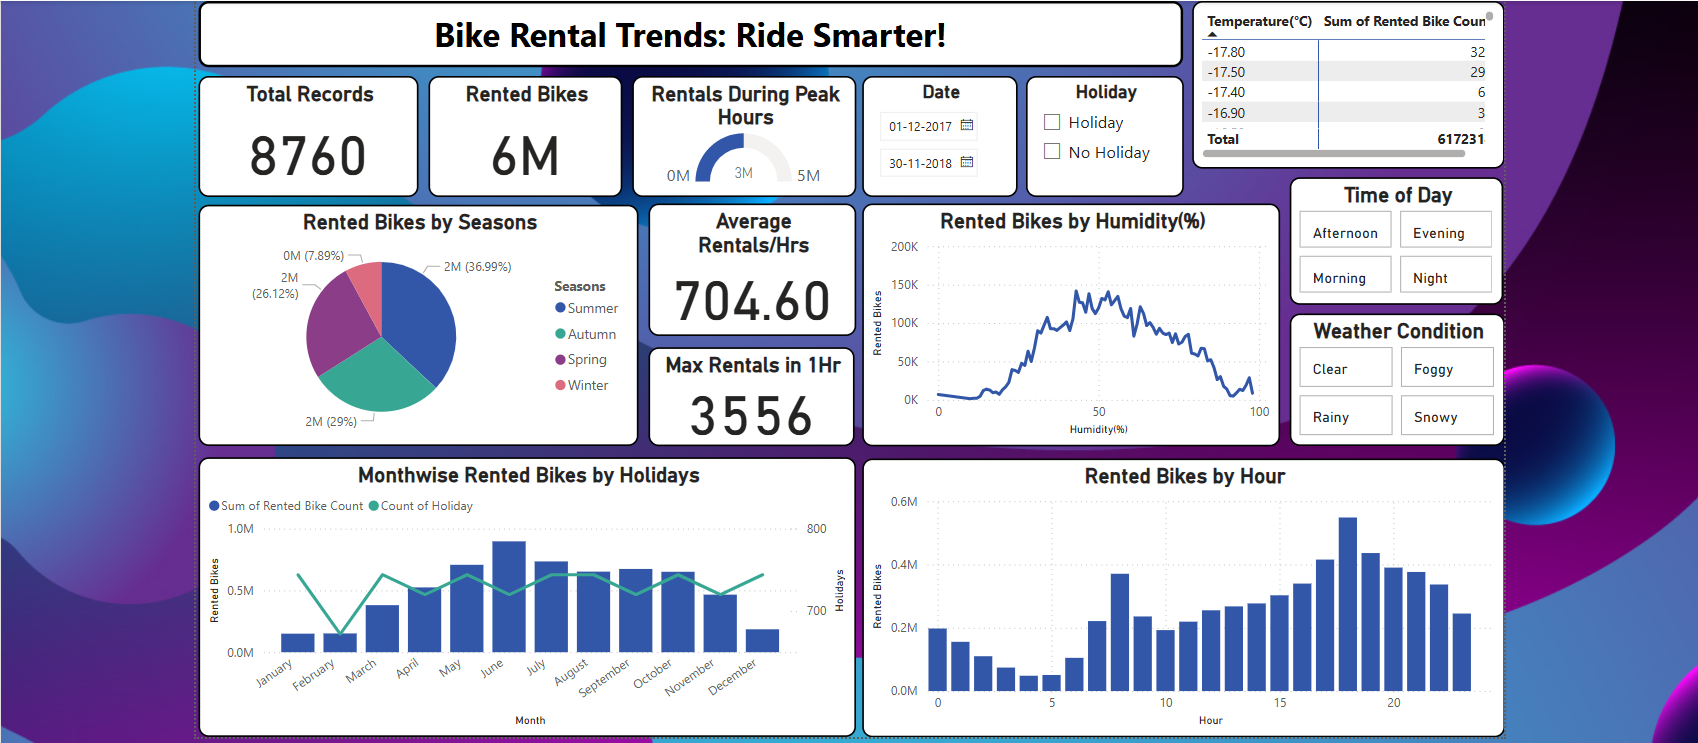

Layout of this report page (visuals, bound fields, positions):
{"tool":"powerbi","page":{"name":"Page 1","canvas":[1280,720],"ordinal":0},"visuals":[{"type":"card","title":"Total Records","fields":{"Values":["CountNonNull(SellBikeData.Record_ID)"]},"box":[2.4,73.4,215.2,118.6],"z":0},{"type":"card","title":"Rented Bikes","fields":{"Values":["Sum(SellBikeData.Rented Bike Count)"]},"box":[227.4,73.4,189.5,118.6],"z":1000},{"type":"card","title":"Average Rentals/Hrs","fields":{"Values":["SellBikeData.Measure"]},"box":[442.7,198.1,203,129.6],"z":2000},{"type":"card","title":"Max Rentals in 1Hr","fields":{"Values":["SellBikeData.Measure 2"]},"box":[442.7,338.7,201.8,96.6],"z":3000},{"type":"gauge","title":"Rentals During Peak Hours","fields":{"Y":["SellBikeData.Total Rentals During Peak Hours"]},"box":[426.8,73.4,218.9,118.6],"z":4000},{"type":"lineChart","title":"Rented Bikes by Humidity(%)","fields":{"Y":["Sum(SellBikeData.Rented Bike Count)"],"Category":["SellBikeData.Humidity(%)"]},"box":[651.8,198.1,408.4,237.2],"z":5000},{"type":"pieChart","title":" Rented Bikes by Seasons","fields":{"Y":["Sum(SellBikeData.Rented Bike Count)"],"Category":["SellBikeData.Seasons"]},"box":[2.4,199.3,430.4,236],"z":6000},{"type":"columnChart","title":"Rented Bikes by Hour","fields":{"Y":["Sum(SellBikeData.Rented Bike Count)"],"Category":["SellBikeData.Hour"]},"box":[651.5,447.3,628.5,272.7],"z":7000},{"type":"lineStackedColumnComboChart","title":"Monthwise Rented Bikes  by Holidays","fields":{"Y":["Sum(SellBikeData.Rented Bike Count)"],"Category":["SellBikeData.Date.Variation.Date Hierarchy.Month"],"Y2":["CountNonNull(SellBikeData.Holiday)"]},"box":[2.4,446.1,643.2,273.9],"z":8000},{"type":"advancedSlicerVisual","title":"Weather Condition","fields":{"Values":["SellBikeData.Weather_Condition"]},"box":[1069.7,305.7,210.3,129.6],"z":9000},{"type":"slicer","title":"Date","fields":{"Values":["SellBikeData.Date"]},"box":[651.8,73.4,151.6,118.6],"z":10000},{"type":"slicer","title":"Holiday","fields":{"Values":["SellBikeData.Holiday"]},"box":[812,73.4,154.1,118.6],"z":11000},{"type":"advancedSlicerVisual","title":"Time of Day","fields":{"Values":["SellBikeData.Time_of_Day"]},"box":[1070,172.4,209.1,124.7],"z":12000},{"type":"pivotTable","fields":{"Rows":["SellBikeData.Temperature(°C)"],"Values":["Sum(SellBikeData.Rented Bike Count)"]},"box":[974.3,0,305.7,163.9],"z":13000},{"type":"textbox","box":[2.4,0,963.6,64.8],"z":14000}]}

Visuals, with their boxes on the page's 1280x720 design canvas (x1, y1, x2, y2). These are canvas units, not pixel positions in the 1698x743 screenshot, which may show the page scaled, cropped or inside an application window:
"Total Records" card: <box>2,73,218,192</box>
"Rented Bikes" card: <box>227,73,417,192</box>
"Average Rentals/Hrs" card: <box>443,198,646,328</box>
"Max Rentals in 1Hr" card: <box>443,339,644,435</box>
"Rentals During Peak Hours" gauge: <box>427,73,646,192</box>
"Rented Bikes by Humidity(%)" lineChart: <box>652,198,1060,435</box>
" Rented Bikes by Seasons" pieChart: <box>2,199,433,435</box>
"Rented Bikes by Hour" columnChart: <box>652,447,1280,720</box>
"Monthwise Rented Bikes  by Holidays" lineStackedColumnComboChart: <box>2,446,646,720</box>
"Weather Condition" advancedSlicerVisual: <box>1070,306,1280,435</box>
"Date" slicer: <box>652,73,803,192</box>
"Holiday" slicer: <box>812,73,966,192</box>
"Time of Day" advancedSlicerVisual: <box>1070,172,1279,297</box>
pivotTable - SellBikeData.Temperature(°C) x Sum(SellBikeData.Rented Bike Count): <box>974,0,1280,164</box>
textbox: <box>2,0,966,65</box>
